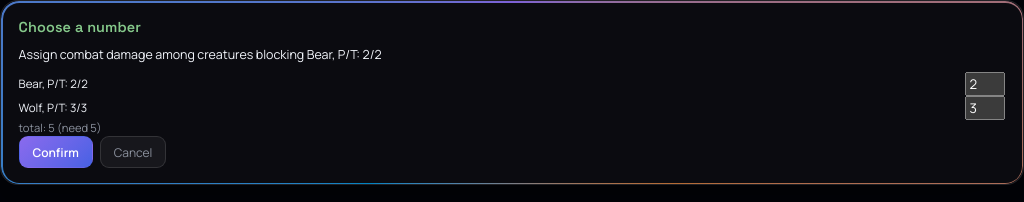
ActionBarComponent › tracks the running total against the overall min/max for a multi-amount prompt, disabling confirm until it matches
This screenshot has width=1024, height=202.
Expected: the button "confirm" is enabled, x1=19 y1=136 x2=93 y2=168
Replace the text in the number field labelled "Bear, P/T: 2/2" with "1" at (985, 84), box x1=965 y1=72 x2=1005 y2=96
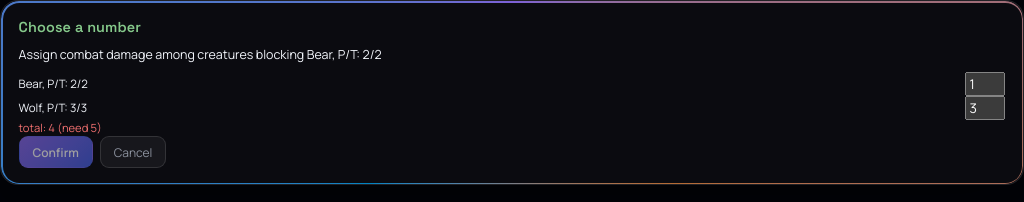
Expected: the text with class "hint" reads "total: 4 (need 5)", x1=19 y1=120 x2=102 y2=135
Expected: the button "confirm" is disabled, x1=19 y1=136 x2=93 y2=168
